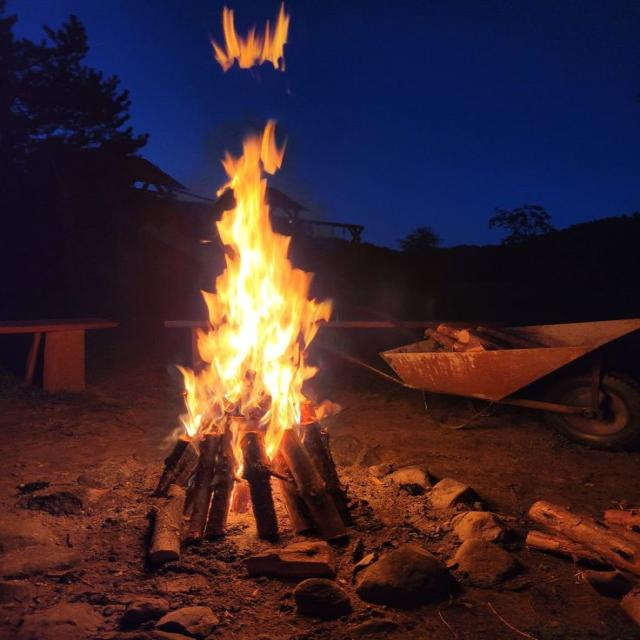fire: (182, 128, 329, 453), (211, 5, 294, 74)
